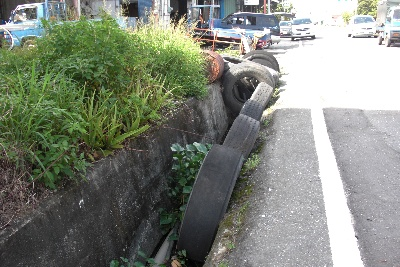tire: (175, 143, 244, 265), (222, 64, 276, 116)
